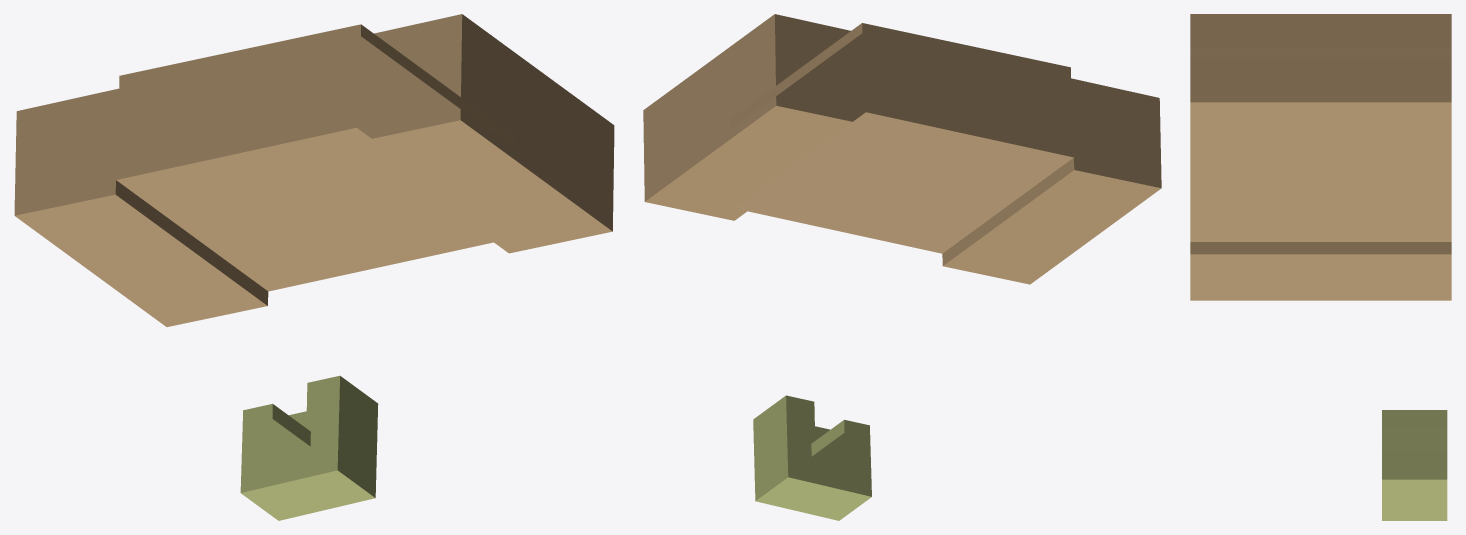
3 views of the same model, side by side, from view 1: azimuth 30°, elevation 25°; view 2: azimuth 150°, elevation 25°; view 3: azimuth 270°, elevation 25° (orthographic). The views are drawn at different scales.
Parts seen in each view (by area): view 1: 0_0_3_1_2_0_3_0_2; view 2: 0_0_3_1_2_0_3_0_2; view 3: 0_0_3_1_2_0_3_0_2.
Boxes of the visible parts, x1=… form: 0_0_3_1_2_0_3_0_2: x1=14, y1=14, x2=614, y2=520; 0_0_3_1_2_0_3_0_2: x1=643, y1=14, x2=1161, y2=520; 0_0_3_1_2_0_3_0_2: x1=1190, y1=14, x2=1451, y2=520.
Size of the model in its own units: 40.75 by 38.73 by 24.
